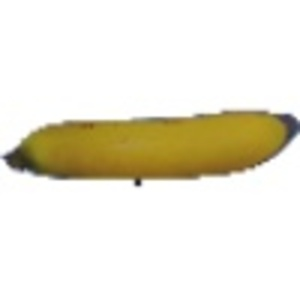banana: (1, 105, 299, 188)
